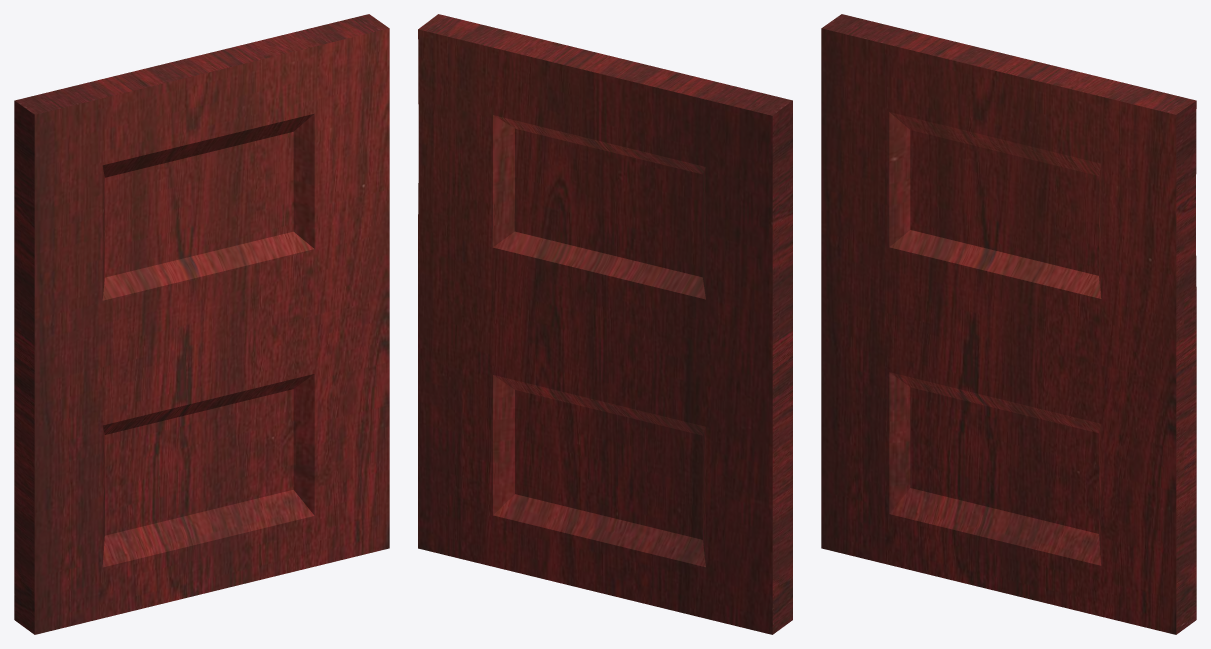
Rendered from door.fbx.
3 renders of one model, left to right at view 1: azimuth 30°, elevation 25°; view 2: azimuth 150°, elevation 25°; view 3: azimuth 330°, elevation 25°, orthographic.
Parts seen in each view (by area): view 1: pCube1; view 2: pCube1; view 3: pCube1.
Boxes of the visible parts, left/top/right/bottom form: pCube1: left=14, top=14, right=389, bottom=634; pCube1: left=418, top=14, right=792, bottom=634; pCube1: left=821, top=14, right=1196, bottom=634.
Bounding box in the file's own units: 4.58 × 6.42 × 0.4548.
1 material, 1 textured.
